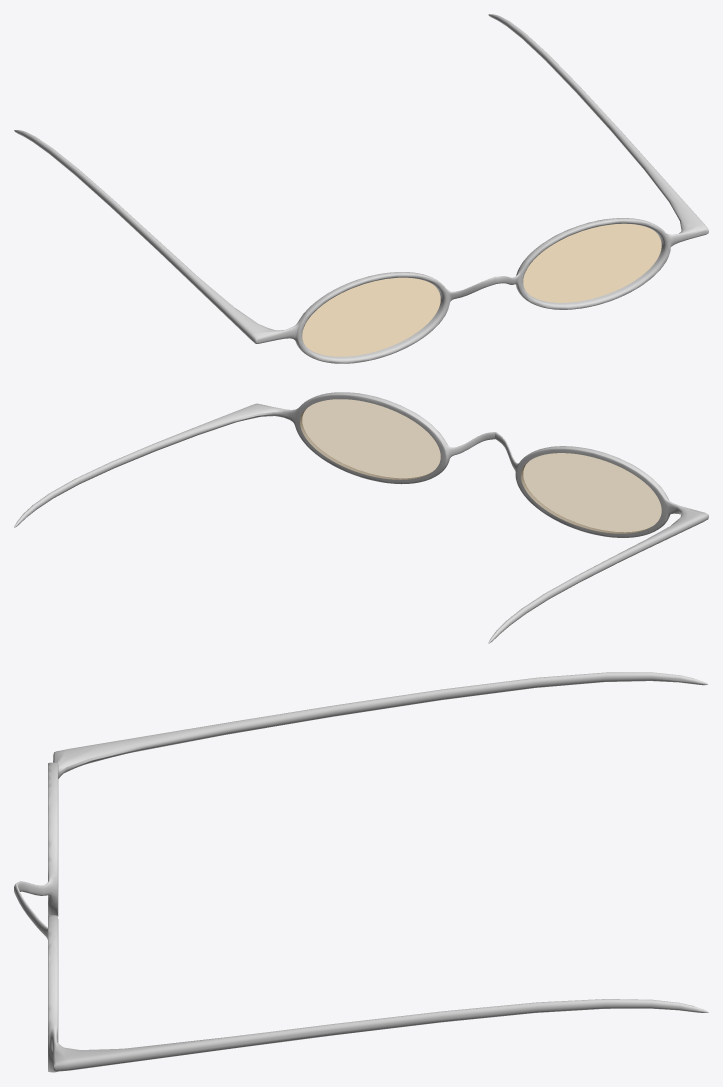
The model's file is eyewear-glasses-001-fab41bec.glb.
The picture shows the model from 3 angles, top to bottom: view 1: azimuth 30°, elevation 25°; view 2: azimuth 150°, elevation 25°; view 3: azimuth 270°, elevation 25°; orthographic projection. The views are drawn at different scales.
Visible parts, largest first — view 1: Geo_Female_White_Glasses.004; view 2: Geo_Female_White_Glasses.004; view 3: Geo_Female_White_Glasses.004.
Part boxes in pixels (x1,y1,x2,y2): Geo_Female_White_Glasses.004: (14,14,708,363); Geo_Female_White_Glasses.004: (14,392,708,643); Geo_Female_White_Glasses.004: (14,672,708,1072).
Size of the model in its own units: 1.46 by 0.2885 by 1.3.
